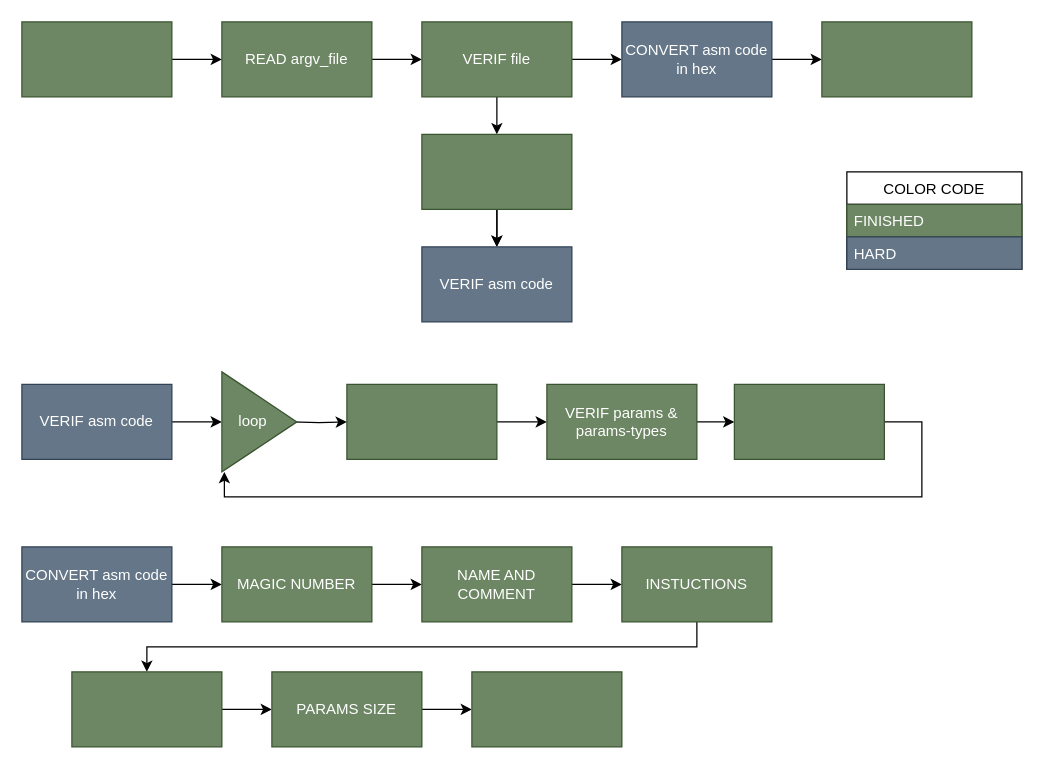
Some shapes in this 1044 by 769 pixel diagram are drawn without their labels. Here are the shapes that lost their labels. From the top down, the centre of each, then its label:
At point (96, 59): "PARSING".
At point (896, 59): "WRITE in file".
At point (496, 171): "VERIF name & header".
At point (421, 421): "VERIF func".
At point (808, 421): "VERIF label".
At point (146, 709): "COMMAND NAME".
At point (546, 709): "PARAMS".
